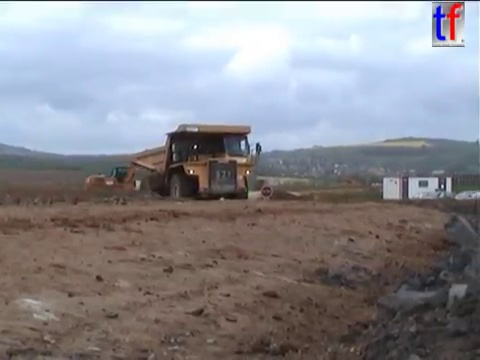excavator: (83, 148, 176, 199)
truck: (127, 121, 264, 203)
